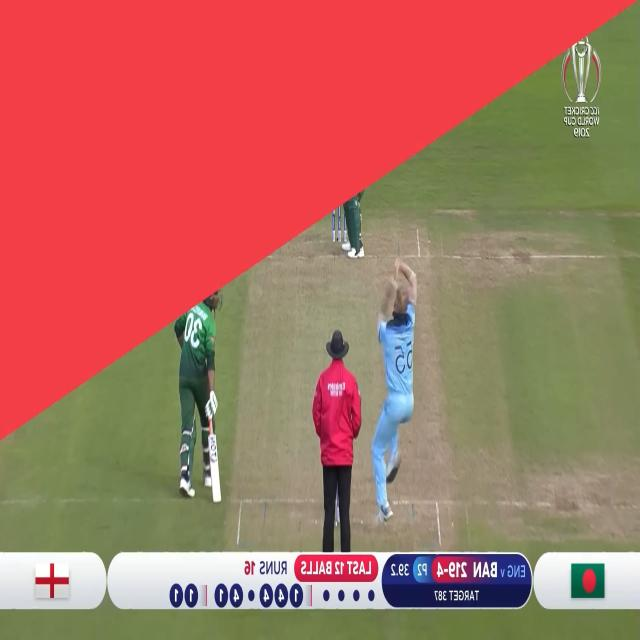ball: (392, 279, 398, 290)
